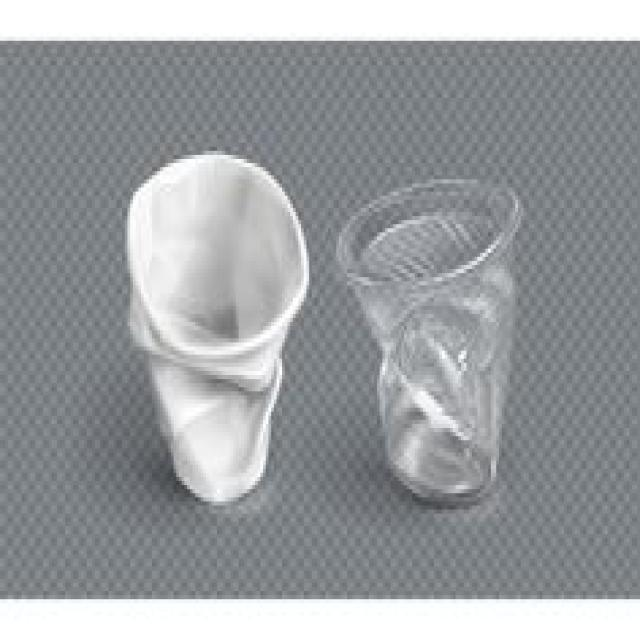bottle: (128, 152, 309, 503), (338, 180, 522, 503)
